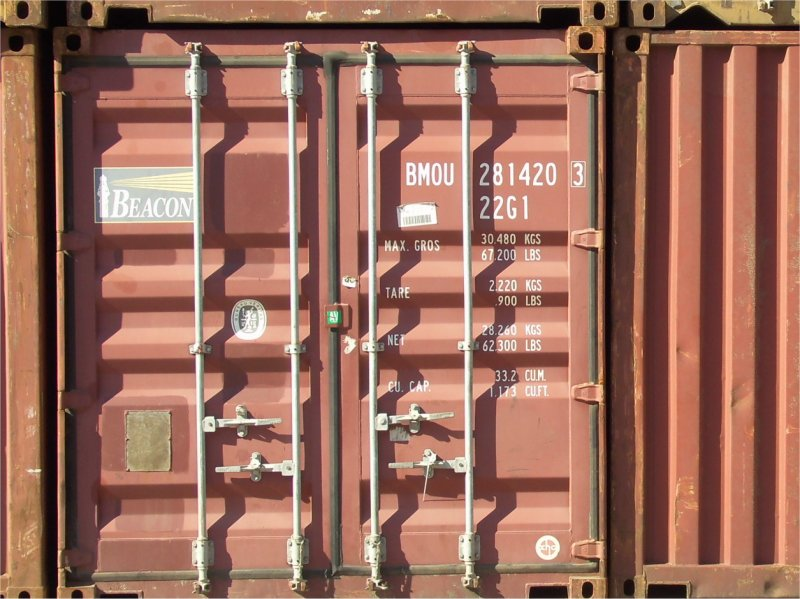container_door: (50, 28, 605, 594)
